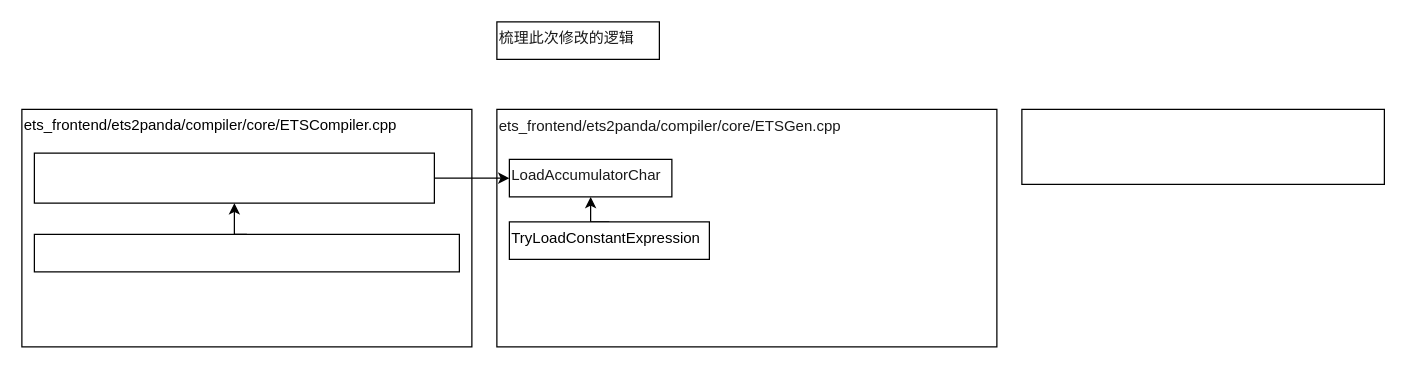
The diagram is 1406 pixels wide and 369 high, and some of its shapes have lost their labels. Each missing label, with the centre of its shape:
"ets_frontend/ets2panda/checker/ETSAnalyzer.cpp" belongs at (1202,146).
"ETSCompiler::Compile(const ir::AssignmentExpression *expr)" belongs at (246,252).
"void ETSCompiler::Compile(const ir::CharLiteral *expr) 这里有一个ASSERT" belongs at (233,177).
